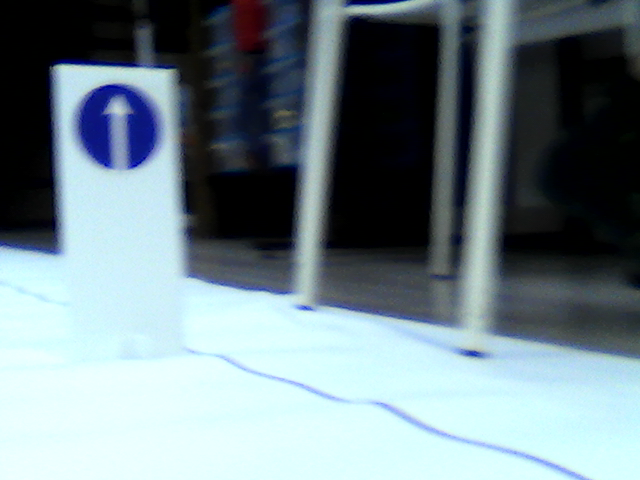forw: (73, 85, 163, 168)
